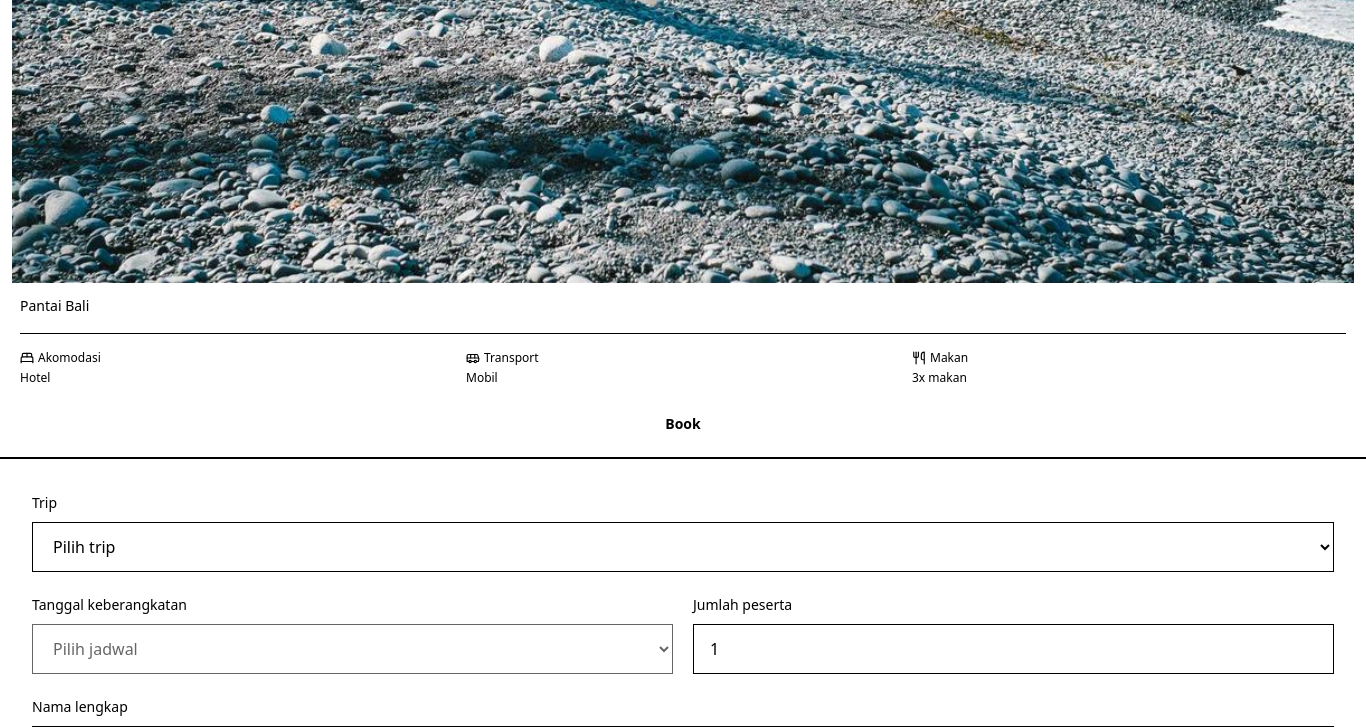
Scenario: BookingForm › preselects the trip chosen from a trip card
This screenshot has width=1366, height=727.
(page scrolled)
Click the button named "Uluwatu" at [683, 424], box [12,402,1354,446]
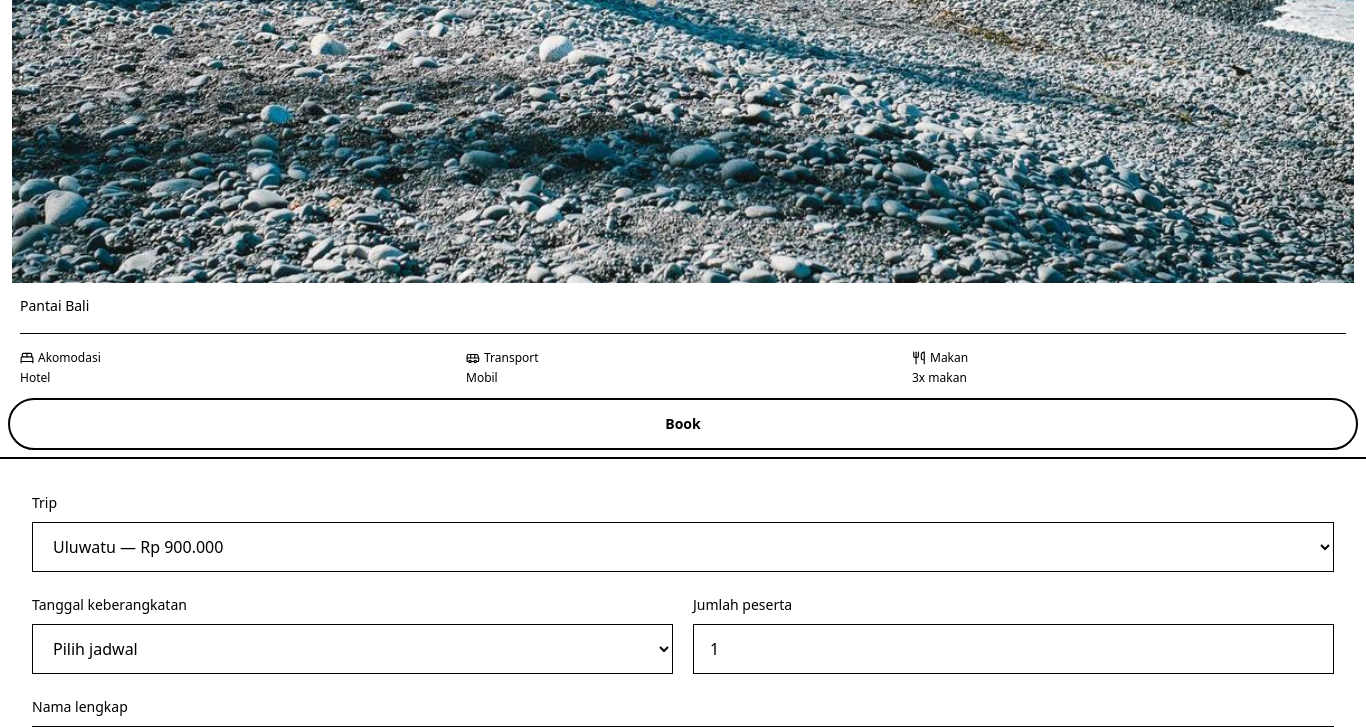
Now the dropdown labelled "Trip" shows "Uluwatu — Rp 900.000", box [32,522,1334,572]
